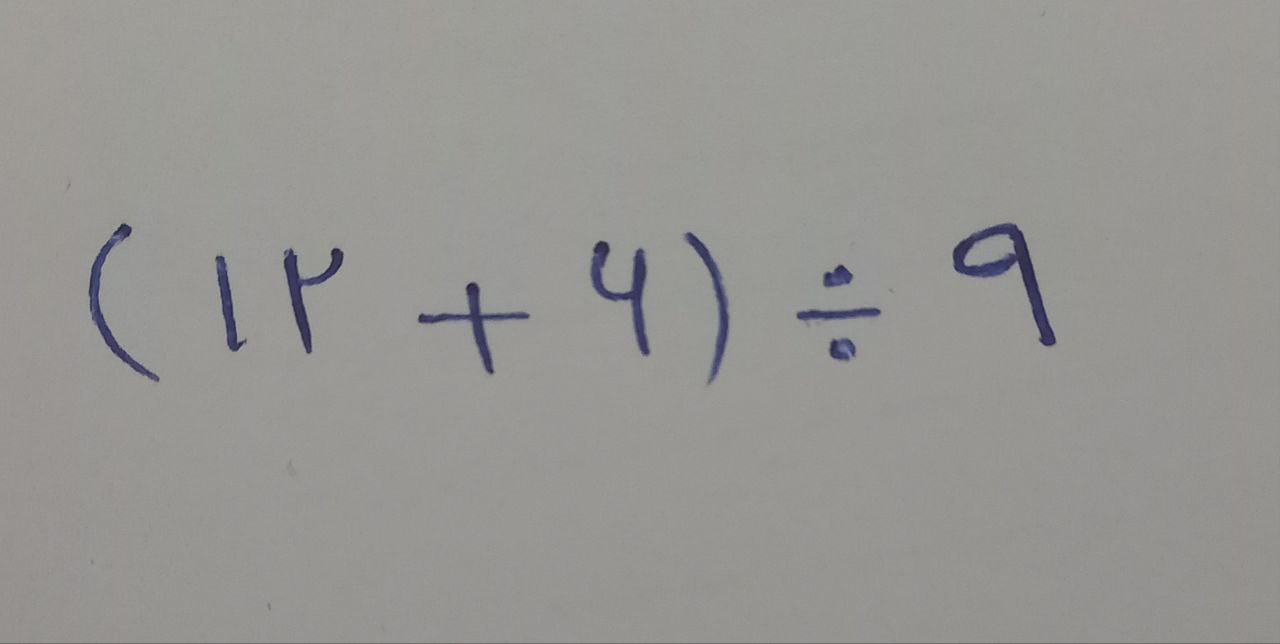character: (87, 224, 177, 386), (951, 222, 1057, 348), (418, 283, 539, 372), (795, 266, 888, 365), (591, 242, 652, 364), (681, 232, 728, 387), (282, 247, 344, 360), (212, 254, 248, 351)
